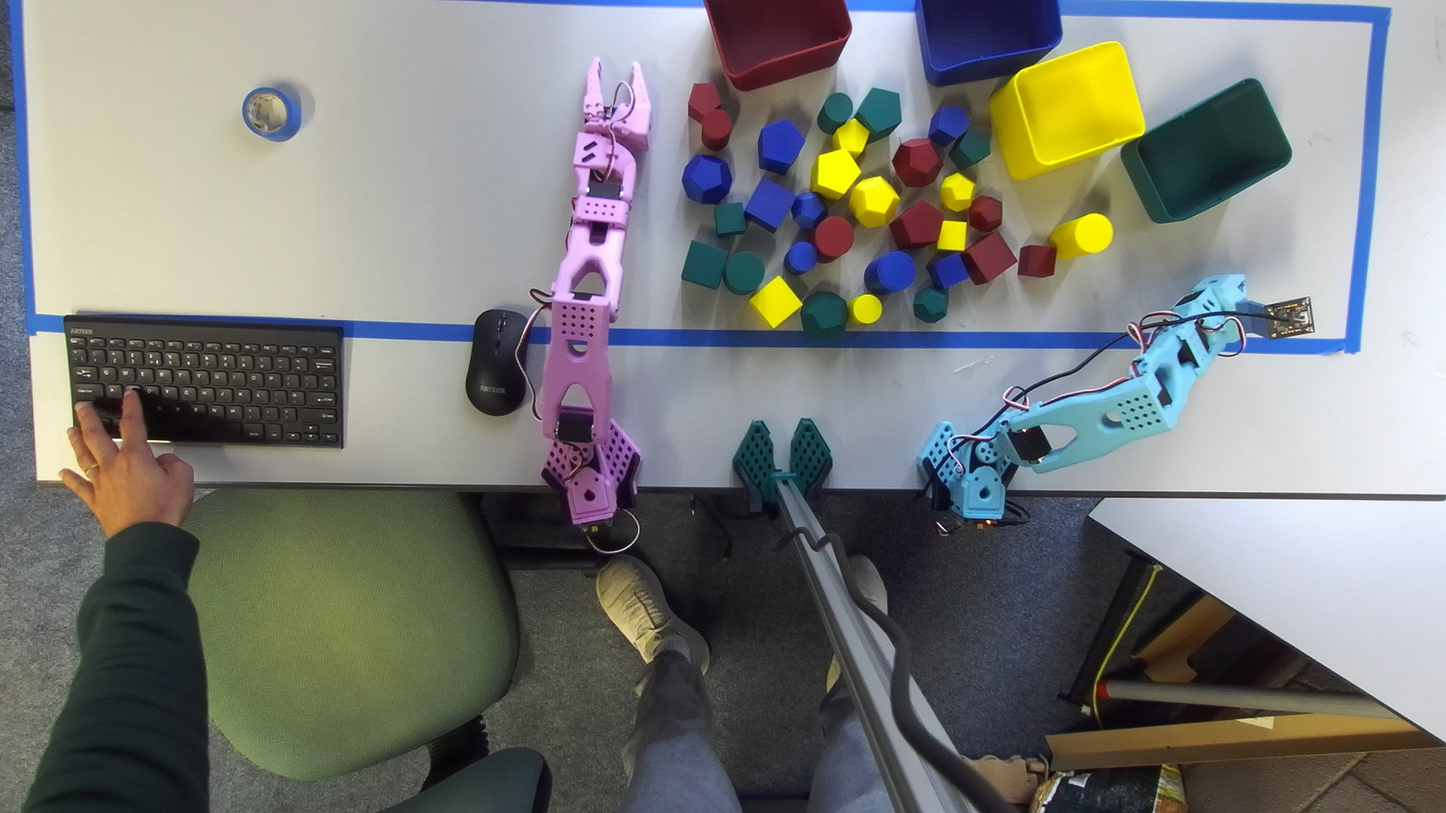bin: (1121, 78, 1292, 223), (990, 41, 1145, 178), (704, 0, 851, 90), (914, 0, 1062, 86)
cube: (960, 231, 1017, 285), (749, 276, 801, 327), (744, 178, 793, 232), (682, 240, 727, 288), (927, 252, 968, 290), (1017, 245, 1057, 277), (714, 202, 746, 236), (935, 219, 967, 251)
cylinder: (1048, 213, 1112, 258), (864, 251, 915, 294), (813, 216, 854, 263), (725, 251, 765, 294), (817, 92, 853, 133), (701, 108, 732, 151), (783, 241, 816, 274), (849, 293, 881, 324)
dodecahedron: (849, 176, 899, 227), (682, 154, 732, 204), (892, 138, 942, 187), (800, 291, 848, 339), (790, 191, 827, 229), (939, 172, 975, 211), (968, 196, 1002, 231), (913, 289, 947, 323)
gripper: (583, 57, 650, 154), (1192, 273, 1245, 309)
hexagonal: (889, 200, 943, 250), (855, 87, 901, 144), (757, 119, 804, 174), (810, 149, 860, 199), (928, 105, 969, 148), (949, 129, 990, 169), (831, 118, 869, 159), (688, 82, 720, 122)
